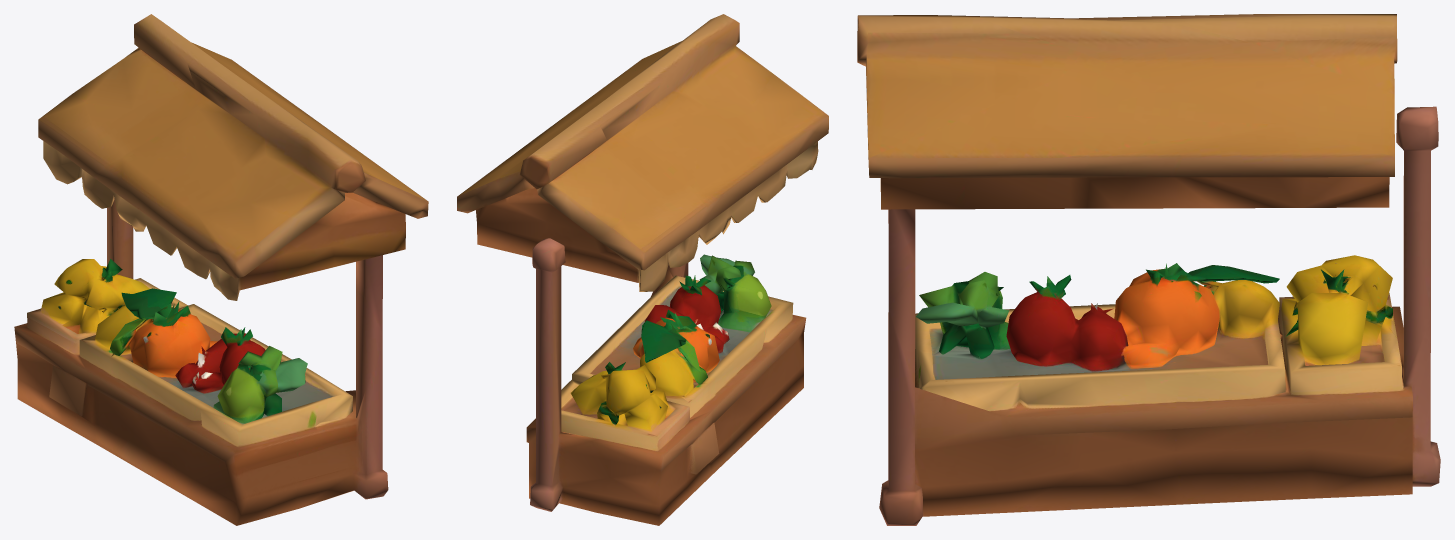
The model's file is low-poly market stall 3d model.glb.
The picture shows the model from 3 angles, left to right: view 1: azimuth 30°, elevation 25°; view 2: azimuth 150°, elevation 25°; view 3: azimuth 270°, elevation 25°; orthographic projection. The views are drawn at different scales.
Visible parts, largest first — view 1: tripo_node_598208b5-3083-45e5-83f6-80ffd019fc07; view 2: tripo_node_598208b5-3083-45e5-83f6-80ffd019fc07; view 3: tripo_node_598208b5-3083-45e5-83f6-80ffd019fc07.
Boxes of the visible parts, x1=… form: tripo_node_598208b5-3083-45e5-83f6-80ffd019fc07: x1=14, y1=14, x2=428, y2=525; tripo_node_598208b5-3083-45e5-83f6-80ffd019fc07: x1=457, y1=14, x2=828, y2=525; tripo_node_598208b5-3083-45e5-83f6-80ffd019fc07: x1=857, y1=14, x2=1440, y2=525.
Bounding box in the file's own units: 0.5717 × 0.8898 × 0.9791.
1 material, 1 textured.
